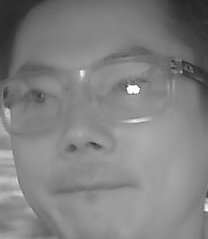eye: (20, 87, 54, 106)
glass: (87, 55, 177, 126), (2, 71, 69, 136)
mouth: (53, 170, 134, 207)
